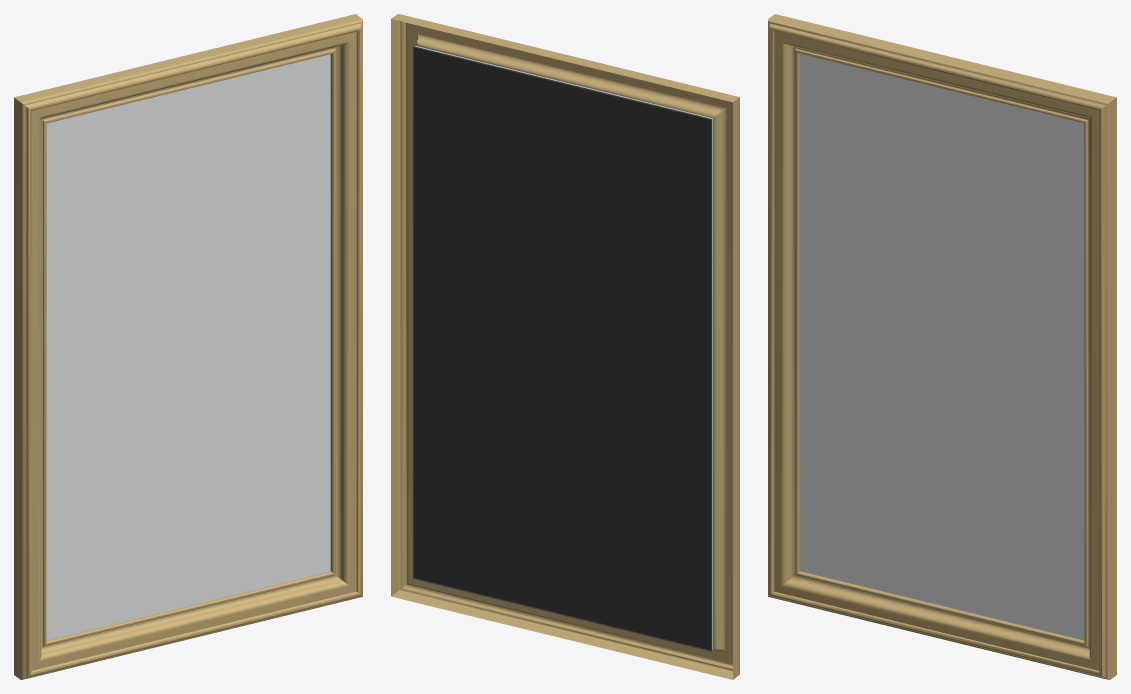
File: MirrorComplete.fbx
3 views of the same model, side by side, from view 1: azimuth 30°, elevation 25°; view 2: azimuth 150°, elevation 25°; view 3: azimuth 330°, elevation 25° (orthographic).
Visible parts, largest first — view 1: Mirror_Glass, Mirror_Frame; view 2: Mirror_Backing, Mirror_Frame, Mirror_Glass; view 3: Mirror_Glass, Mirror_Frame.
Part boxes in pixels (x1,y1,x2,y2): Mirror_Glass: (46,54,330,640); Mirror_Frame: (14,14,362,679); Mirror_Backing: (413,46,711,651); Mirror_Frame: (391,14,739,679); Mirror_Glass: (415,46,712,649); Mirror_Glass: (800,54,1084,640); Mirror_Frame: (768,14,1116,679).
Bounding box in the file's own units: 4.36 × 7.04 × 0.23.
